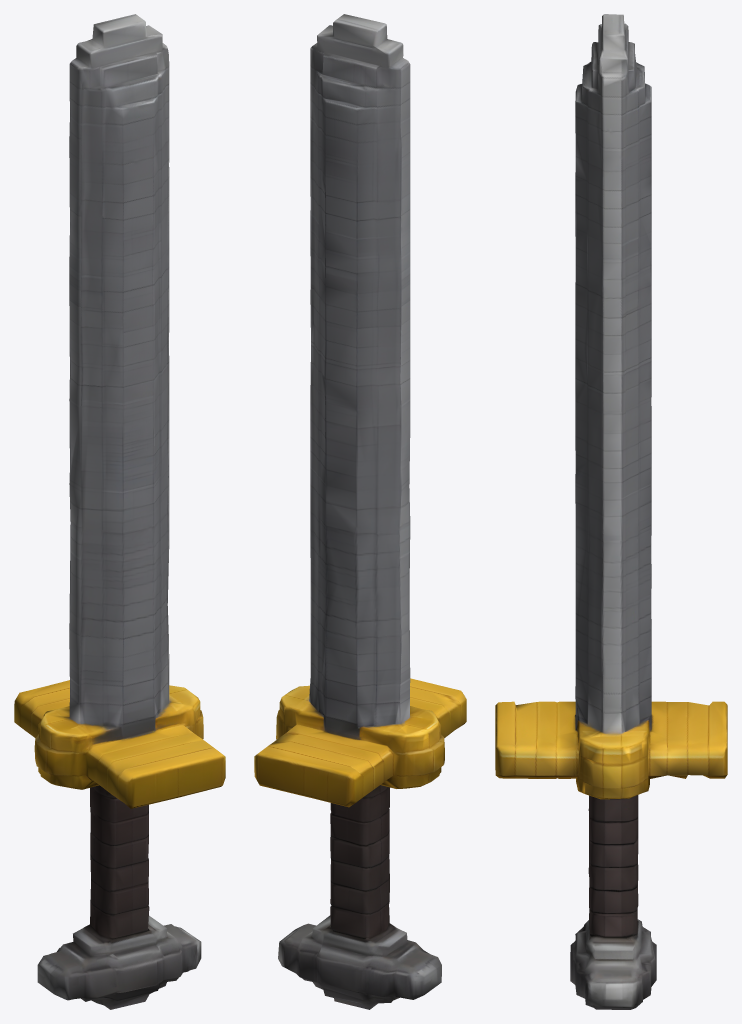
File: espada-longa.glb
3 renders of one model, left to right at view 1: azimuth 30°, elevation 25°; view 2: azimuth 150°, elevation 25°; view 3: azimuth 270°, elevation 25°, orthographic.
Visible parts, largest first — view 1: tripo_node_47a4e4f4-0961-47c4-b1dc-98b43a208313; view 2: tripo_node_47a4e4f4-0961-47c4-b1dc-98b43a208313; view 3: tripo_node_47a4e4f4-0961-47c4-b1dc-98b43a208313.
Boxes of the visible parts, x1=… form: tripo_node_47a4e4f4-0961-47c4-b1dc-98b43a208313: x1=14, y1=14, x2=225, y2=1009; tripo_node_47a4e4f4-0961-47c4-b1dc-98b43a208313: x1=254, y1=14, x2=466, y2=1009; tripo_node_47a4e4f4-0961-47c4-b1dc-98b43a208313: x1=495, y1=14, x2=727, y2=1009.
Bounding box in the file's own units: 0.1686 × 1 × 0.2156.
1 material, 1 textured.
